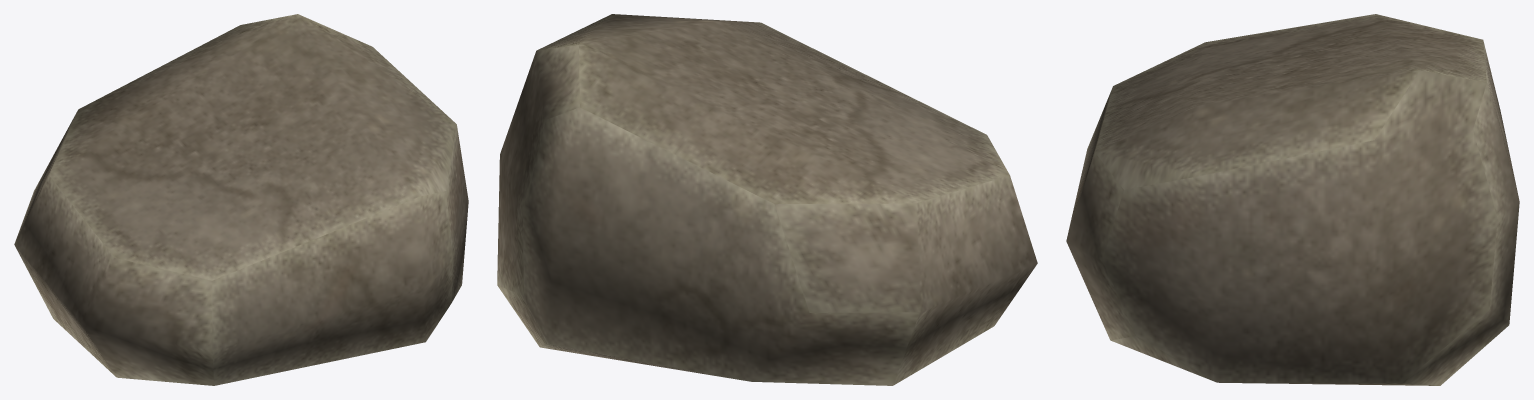
Rendered from Rock_06.fbx.
3 views of the same model, side by side, from view 1: azimuth 30°, elevation 25°; view 2: azimuth 150°, elevation 25°; view 3: azimuth 270°, elevation 25° (orthographic). The views are drawn at different scales.
Visible parts, largest first — view 1: Rock_06; view 2: Rock_06; view 3: Rock_06.
Part boxes in pixels (<box>): Rock_06: <box>14,14,468,385</box>; Rock_06: <box>497,14,1037,385</box>; Rock_06: <box>1066,14,1519,385</box>.
Size of the model in its own units: 1.36 by 0.8554 by 1.17.
Materials: 1 (1 with a texture image).
